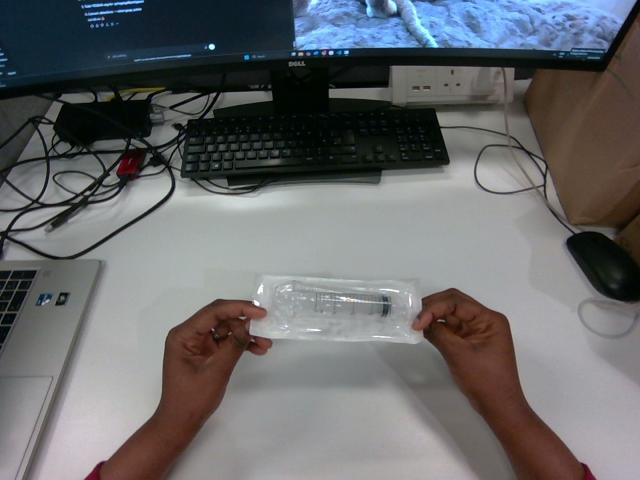syringe: (250, 275, 422, 343)
